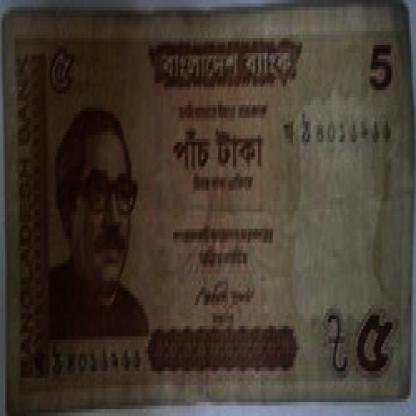Five Taka: (351, 305, 401, 392), (45, 31, 75, 104), (362, 35, 392, 100)
